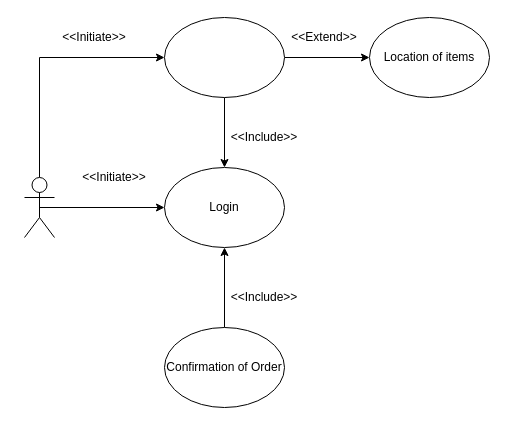
This 507x425 diagram has some shape labels left out. Here are the shapes that lost their labels. From the top down, the centre of each, then its label:
At (224,57): "View Assigned Orders".
At (39,207): "Shopper".
